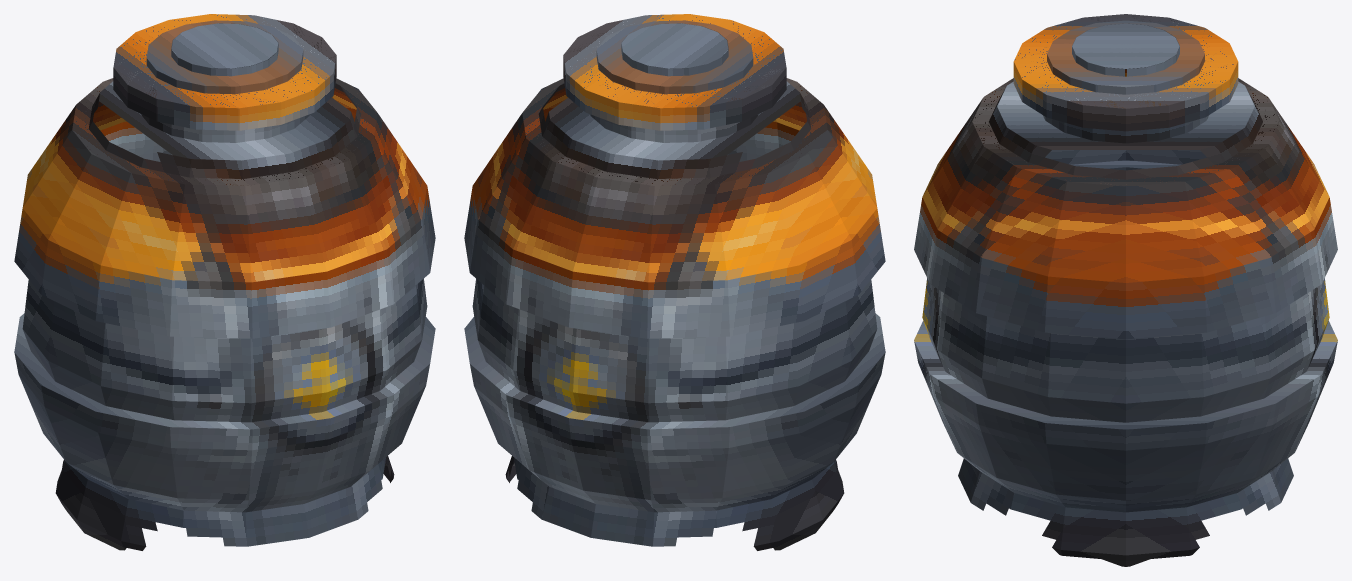
The model's file is tank.obj.
3 renders of one model, left to right at view 1: azimuth 30°, elevation 25°; view 2: azimuth 150°, elevation 25°; view 3: azimuth 270°, elevation 25°, orthographic.
Size of the model in its own units: 0.4382 by 0.5156 by 0.4382.
